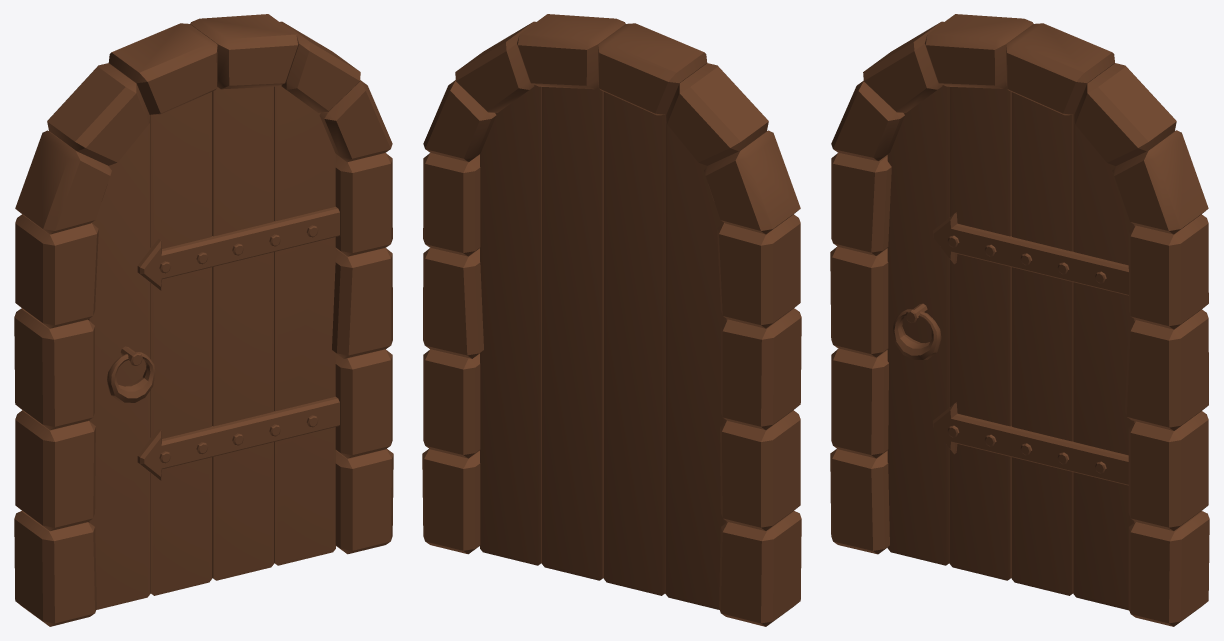
File: Loja 1.fbx
The picture shows the model from 3 angles, left to right: view 1: azimuth 30°, elevation 25°; view 2: azimuth 150°, elevation 25°; view 3: azimuth 330°, elevation 25°; orthographic projection.
Visible parts, largest first — view 1: Porta; view 2: Porta; view 3: Porta.
Part boxes in pixels (left/top/right/bottom): Porta: left=14, top=14, right=393, bottom=626; Porta: left=422, top=14, right=801, bottom=626; Porta: left=830, top=14, right=1209, bottom=626.
Size of the model in its own units: 674 by 999 by 134.
